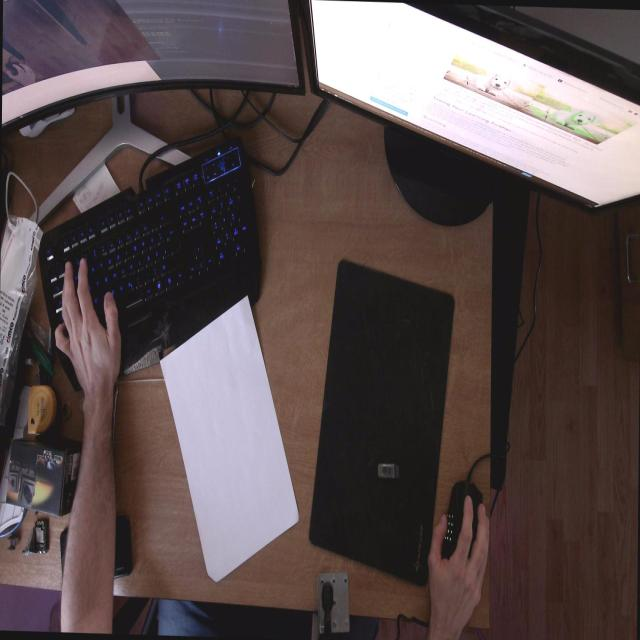keyboard-with-hands: (34, 133, 269, 398)
